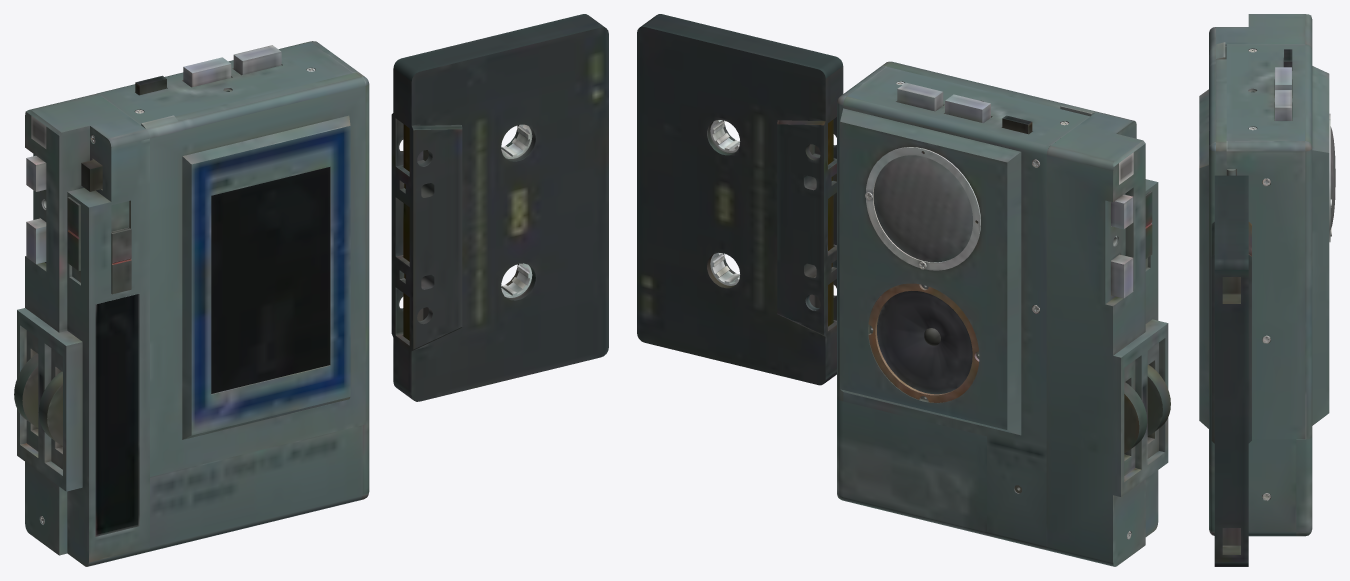
Rendered from ph_portable_cassette_player.glb.
The picture shows the model from 3 angles, left to right: view 1: azimuth 30°, elevation 25°; view 2: azimuth 150°, elevation 25°; view 3: azimuth 270°, elevation 25°; orthographic projection. The views are drawn at different scales.
Parts seen in each view (by area): view 1: portable_cassette_player_lid; view 2: portable_cassette_player_lid; view 3: portable_cassette_player_lid.
Boxes of the visible parts, left/top/right/bottom form: portable_cassette_player_lid: left=14, top=14, right=608, bottom=566; portable_cassette_player_lid: left=637, top=14, right=1170, bottom=566; portable_cassette_player_lid: left=1199, top=14, right=1335, bottom=566.
Bounding box in the file's own units: 0.1723 × 0.1303 × 0.0397.
Materials: 2 (2 with a texture image).
